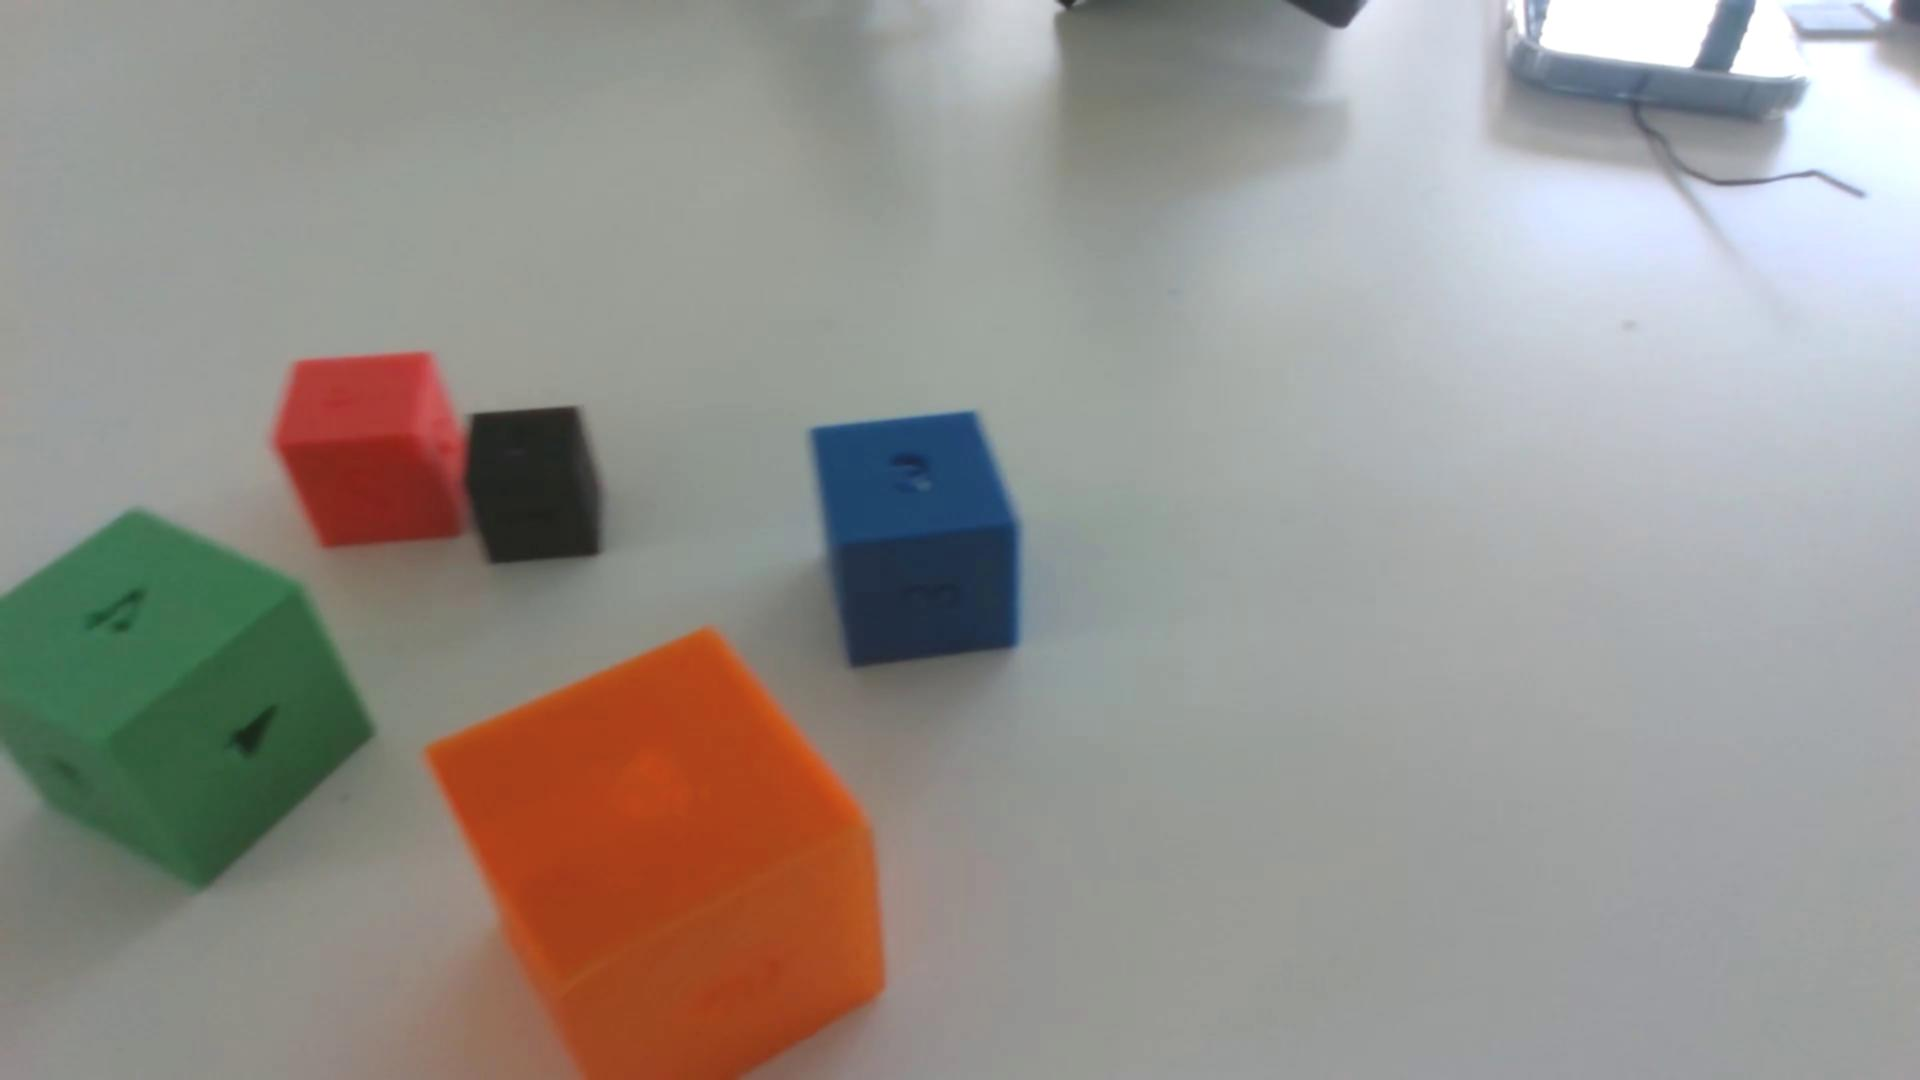black: (465, 407, 604, 564)
blue: (810, 413, 1021, 669)
green: (0, 512, 373, 887)
orange: (427, 632, 885, 1080)
red: (273, 353, 465, 549)
